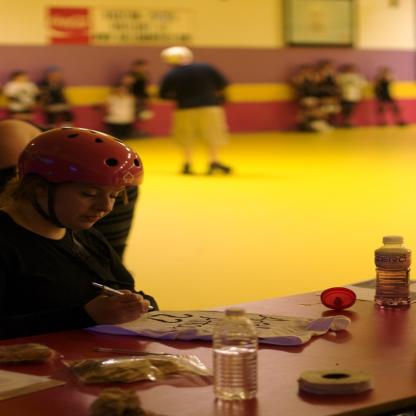Helmet: (17, 126, 145, 232)
